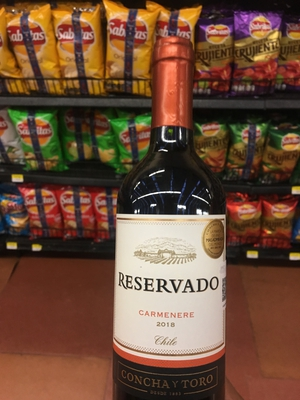reservado carmenere: (102, 38, 247, 400)
